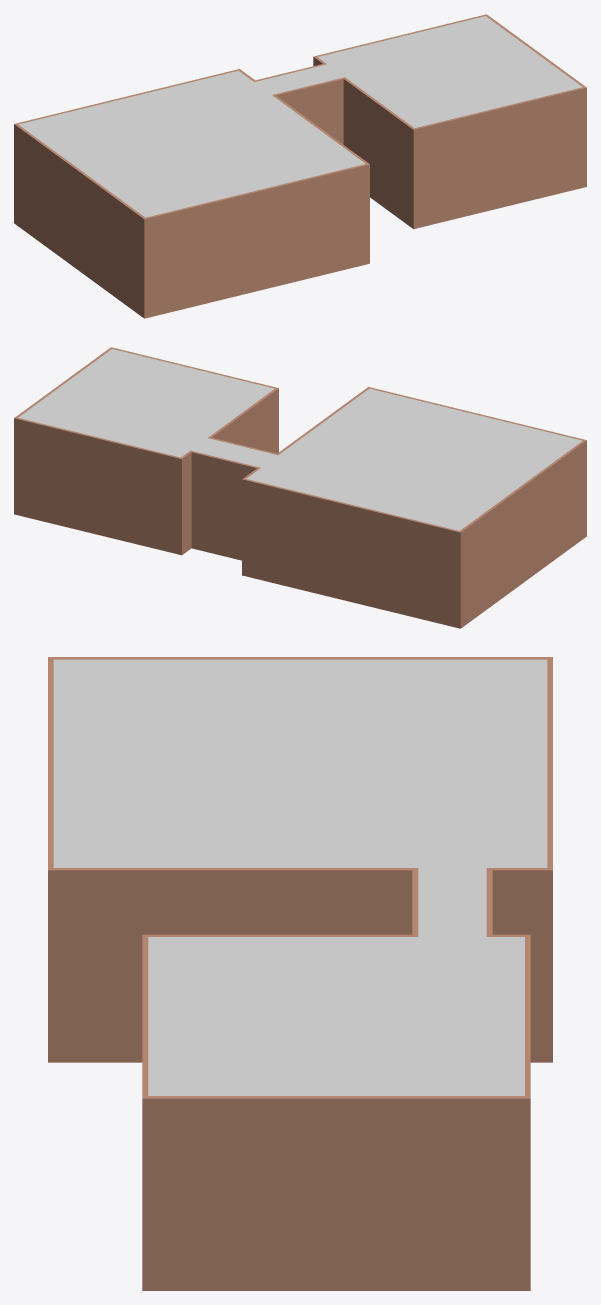
File: Ambiente-parcial.FBX
3 renders of one model, top to bottom at view 1: azimuth 30°, elevation 25°; view 2: azimuth 150°, elevation 25°; view 3: azimuth 270°, elevation 25°, orthographic. The views are drawn at different scales.
Visible parts, largest first — view 1: Parede, Teto; view 2: Parede, Teto; view 3: Teto, Parede.
Boxes of the visible parts, bbox=[...] form: Parede: bbox=[14, 14, 586, 318]; Teto: bbox=[18, 16, 582, 217]; Parede: bbox=[14, 347, 586, 628]; Teto: bbox=[18, 349, 582, 530]; Teto: bbox=[53, 659, 547, 1095]; Parede: bbox=[48, 657, 552, 1290].
Size of the model in its own units: 1066 by 217 by 516.
